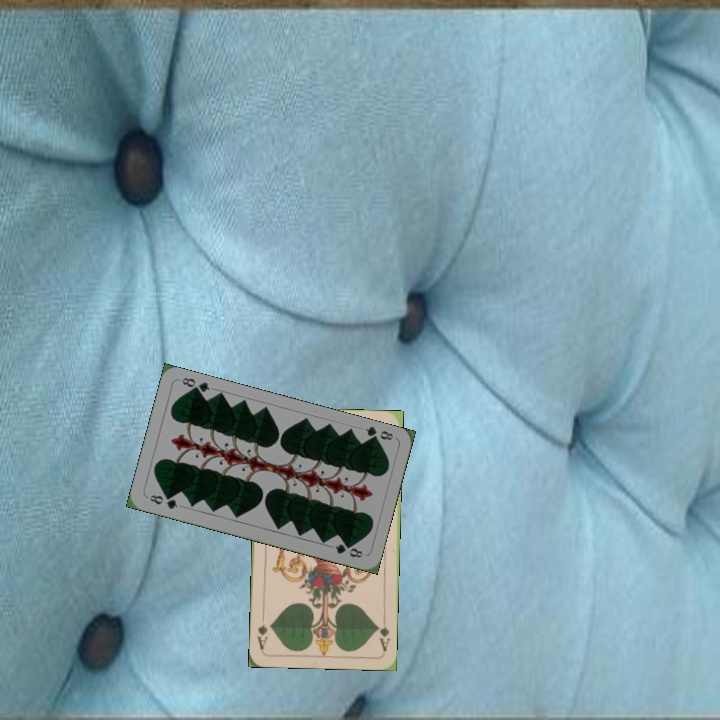G8: (361, 422, 396, 445), (144, 491, 180, 512)
GA: (373, 614, 392, 654)
